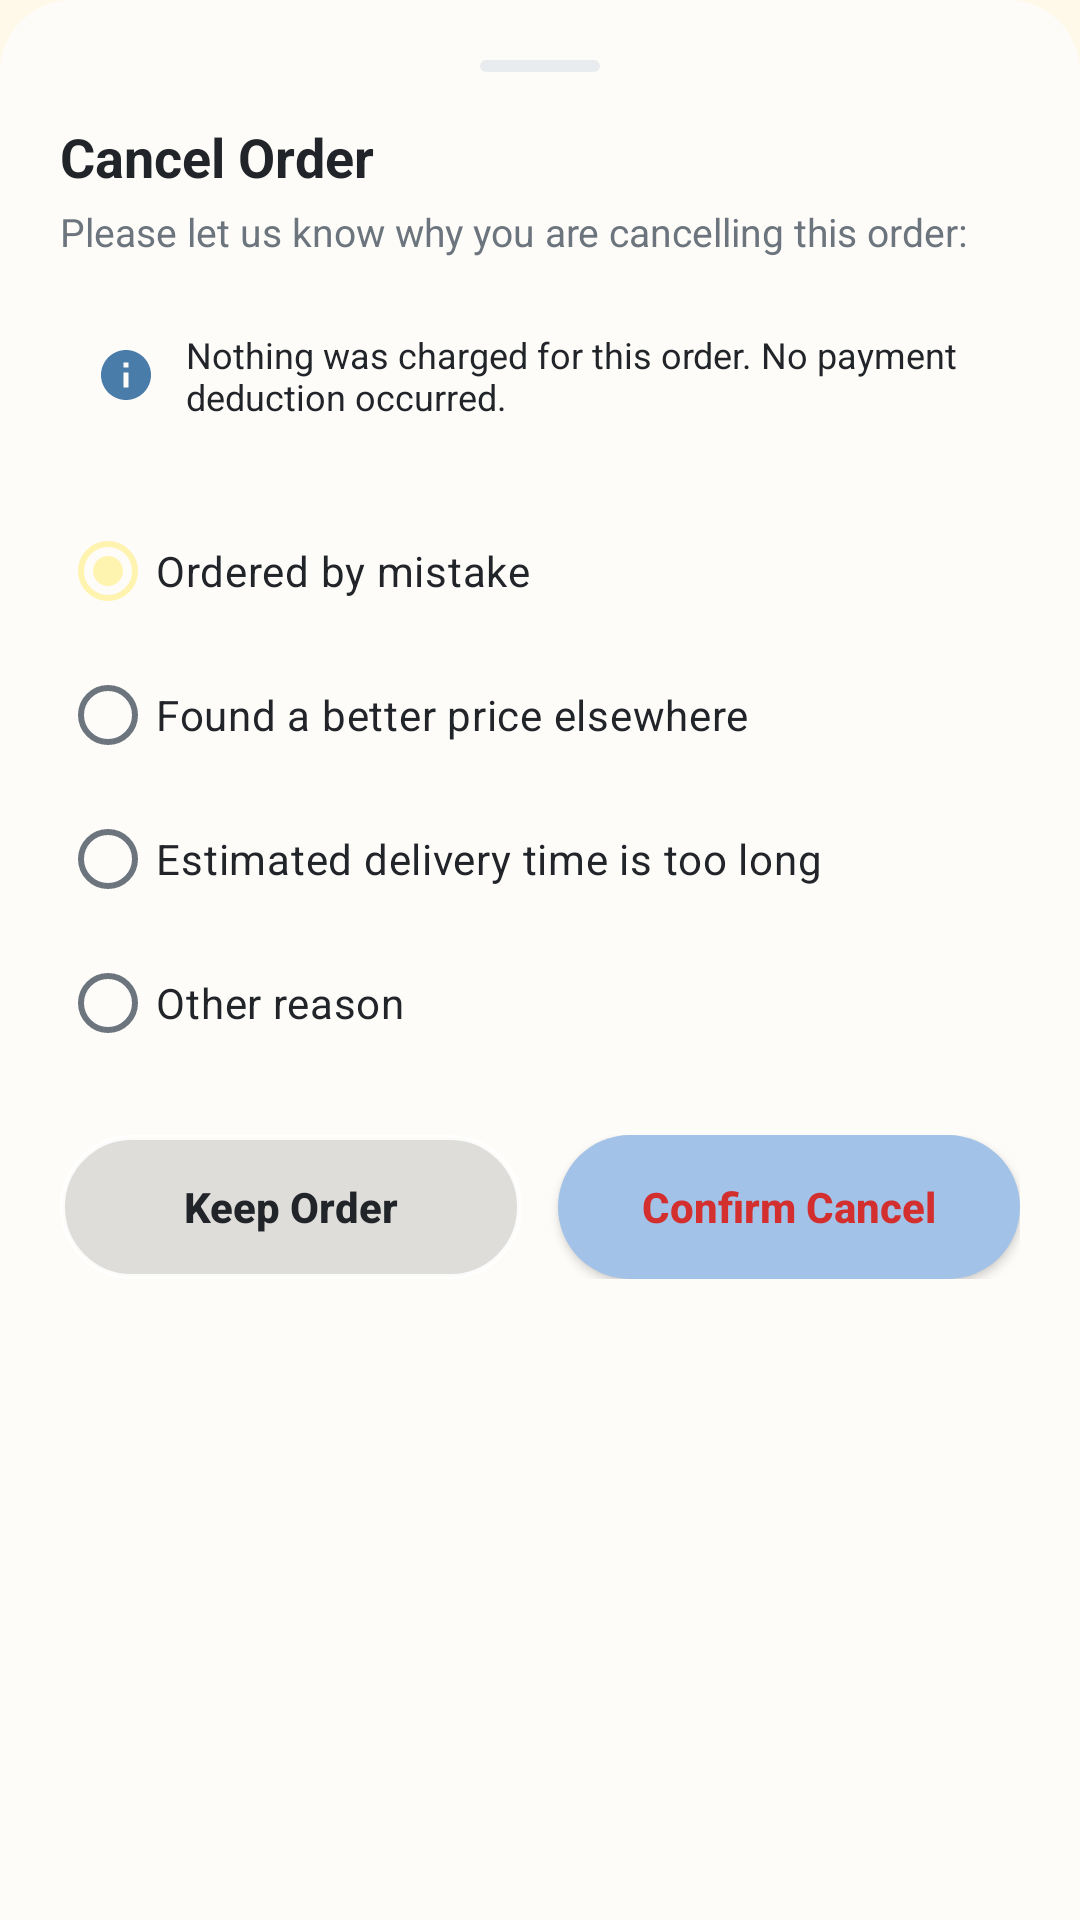

Locate icon controls on the screen. Image size 1080*1920, boxes as bbox(x1, y1, x2, y2).
Info: bbox(101, 350, 151, 400)
